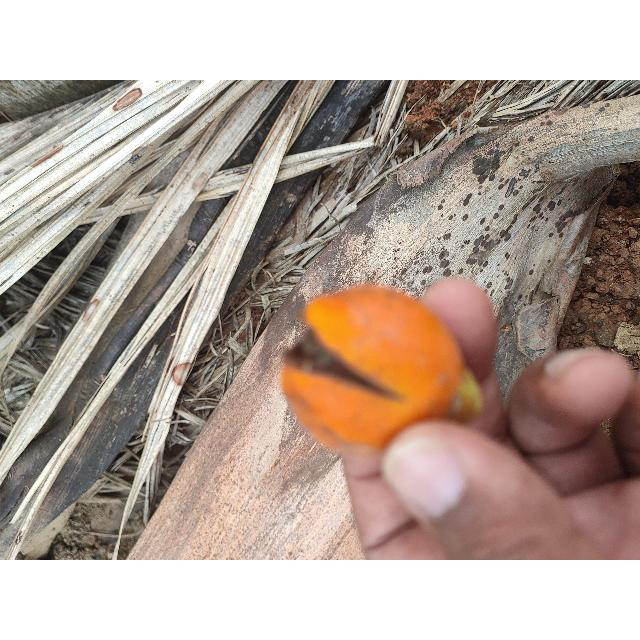damaged: (280, 283, 484, 471)
